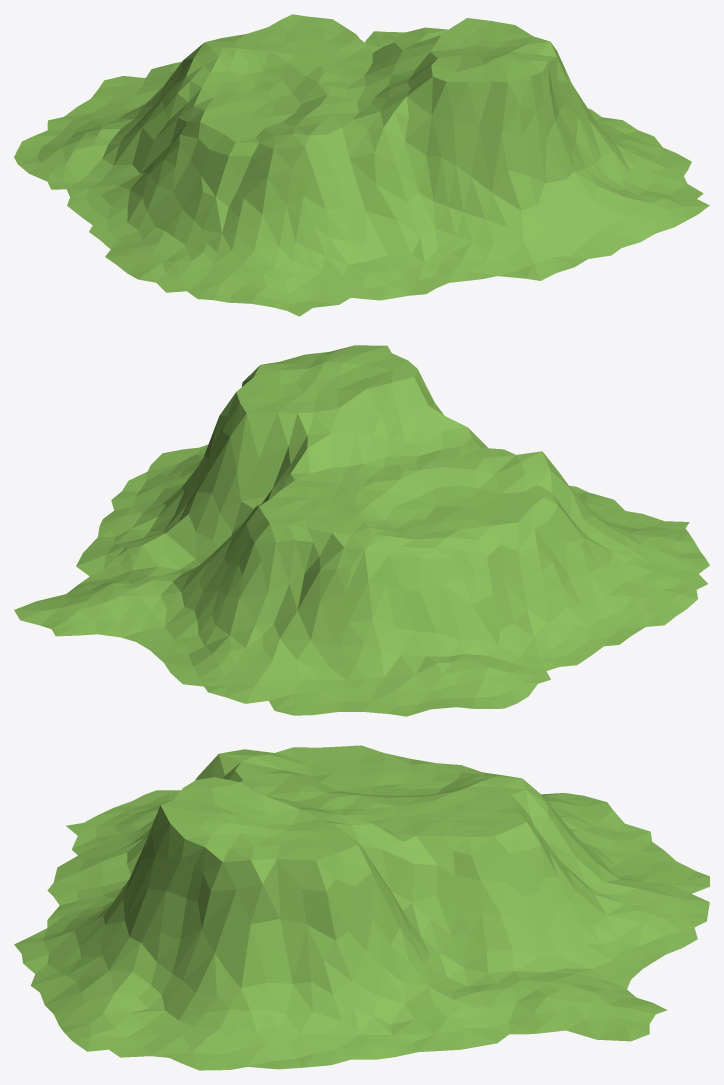
The model's file is MT_Mountain_L_b_21_LOD.fbx.
The picture shows the model from 3 angles, top to bottom: view 1: azimuth 30°, elevation 25°; view 2: azimuth 150°, elevation 25°; view 3: azimuth 270°, elevation 25°; orthographic projection. The views are drawn at different scales.
Visible parts, largest first — view 1: MT_Mountain_L_b_21_LOD0; view 2: MT_Mountain_L_b_21_LOD0; view 3: MT_Mountain_L_b_21_LOD0.
Boxes of the visible parts, left/top/right/bottom form: MT_Mountain_L_b_21_LOD0: left=14, top=14, right=709, bottom=316; MT_Mountain_L_b_21_LOD0: left=14, top=345, right=709, bottom=716; MT_Mountain_L_b_21_LOD0: left=14, top=745, right=709, bottom=1070.
Size of what is drawn, in the model's own units: 8864 by 2250 by 8945.
